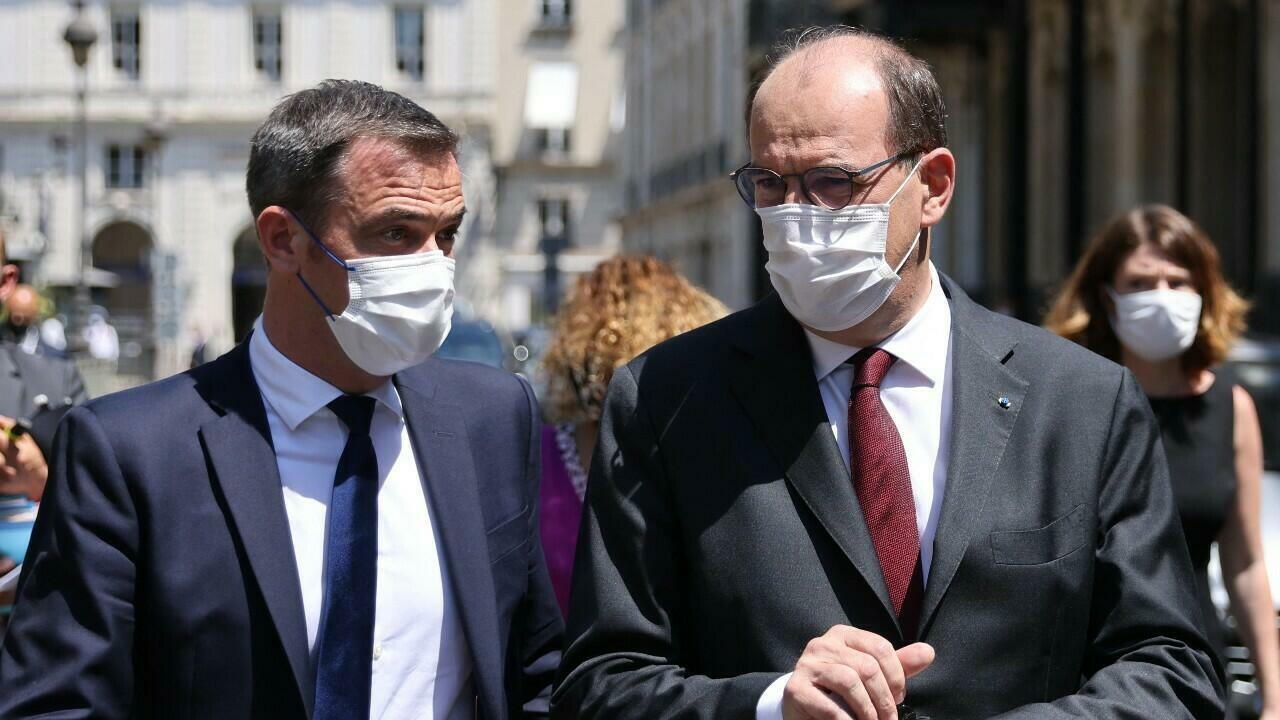with_mask: (753, 103, 898, 307), (339, 180, 452, 350), (1117, 264, 1193, 345)
